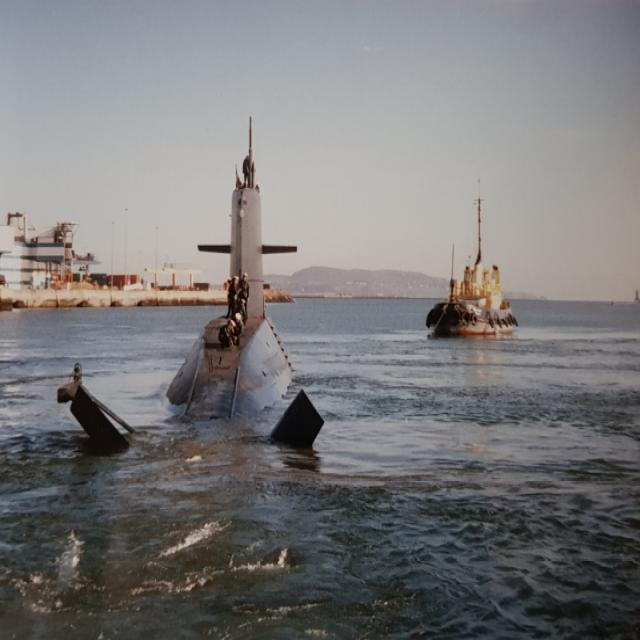submarine: (49, 115, 352, 457)
